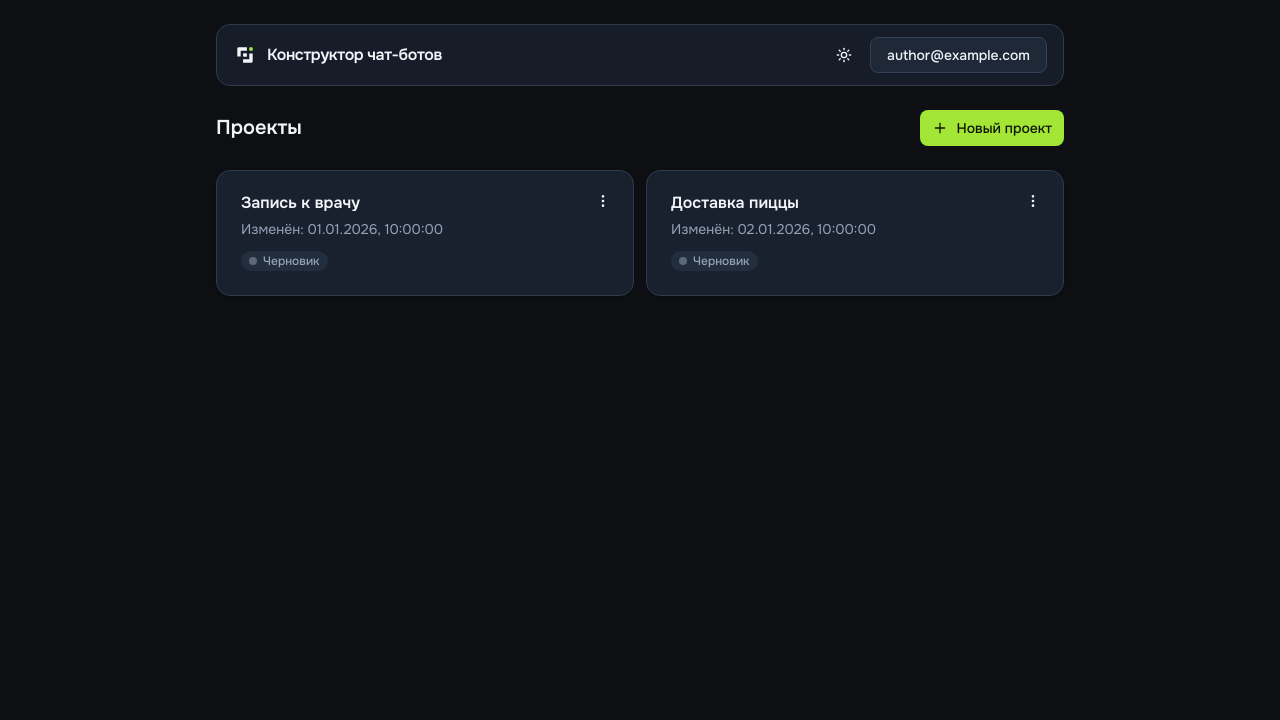
it: ProjectsPage › отрисовывает карточки проектов и позволяет переименовать проект через PATCH
Expected: the text "Запись к врачу" is shown, [241,192,360,213]
Expected: the text "Доставка пиццы" is shown, [671,192,799,213]
# Открываем меню действий карточки — навигации в редактор не происходит
Click the button named "Действия с проектом «Запись к врачу»" at (603, 201), box [585,183,621,219]
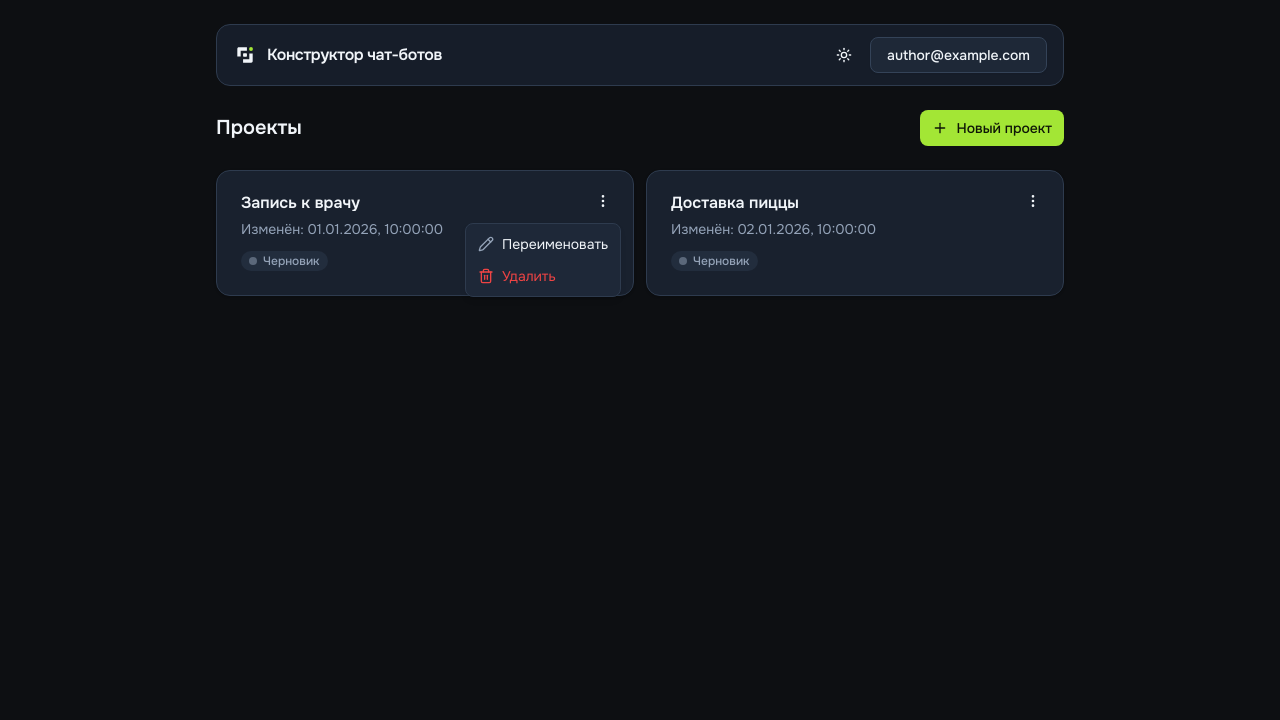
Click the menu item "Переименовать" at (543, 244), box [478,235,608,253]
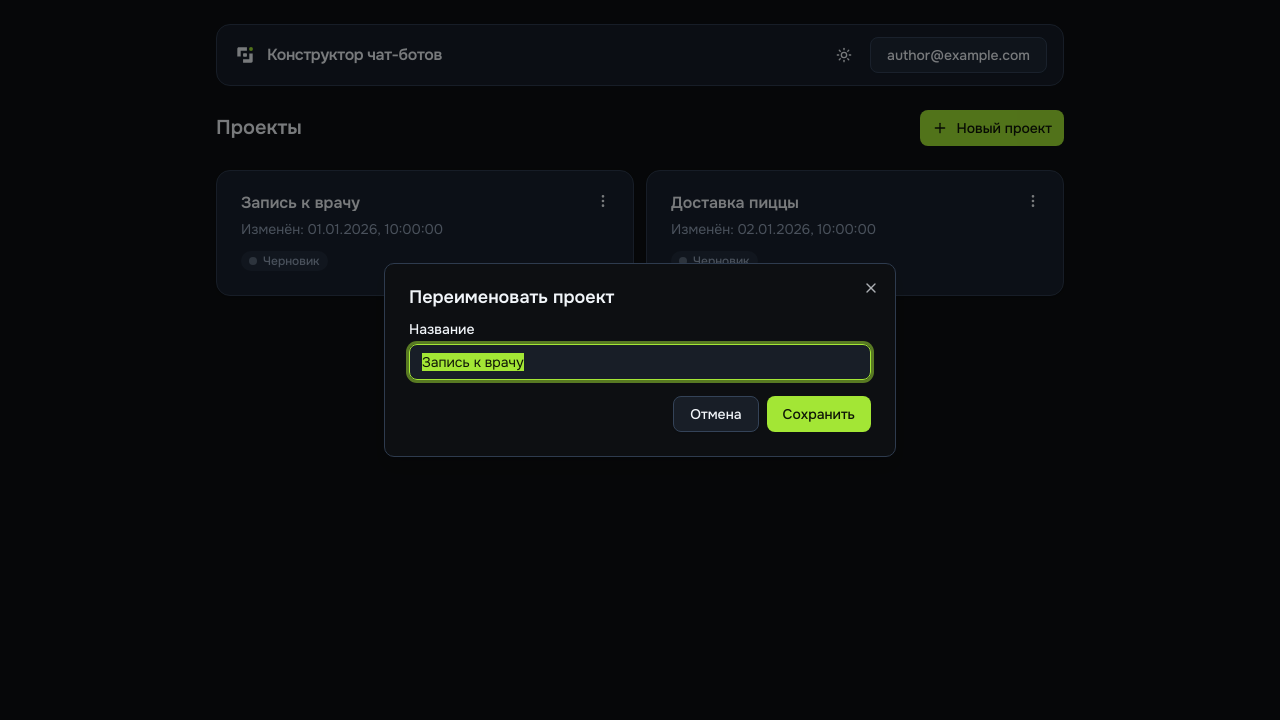
Result: the field labelled "Название" holds "Запись к врачу"
# Проверка валидации пустого имени
Clear the field labelled "Название" at (640, 362), box [409,344,871,380]
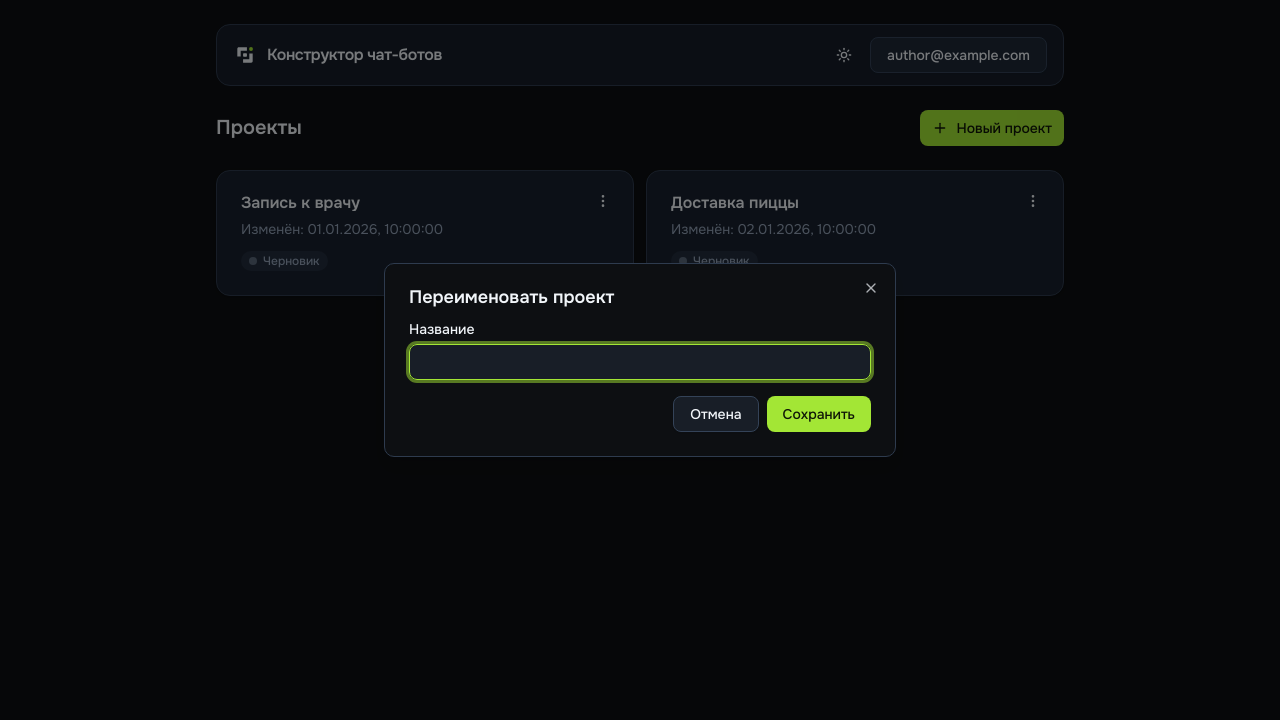
Click the button "Сохранить" at (819, 414), box [766,396,871,432]
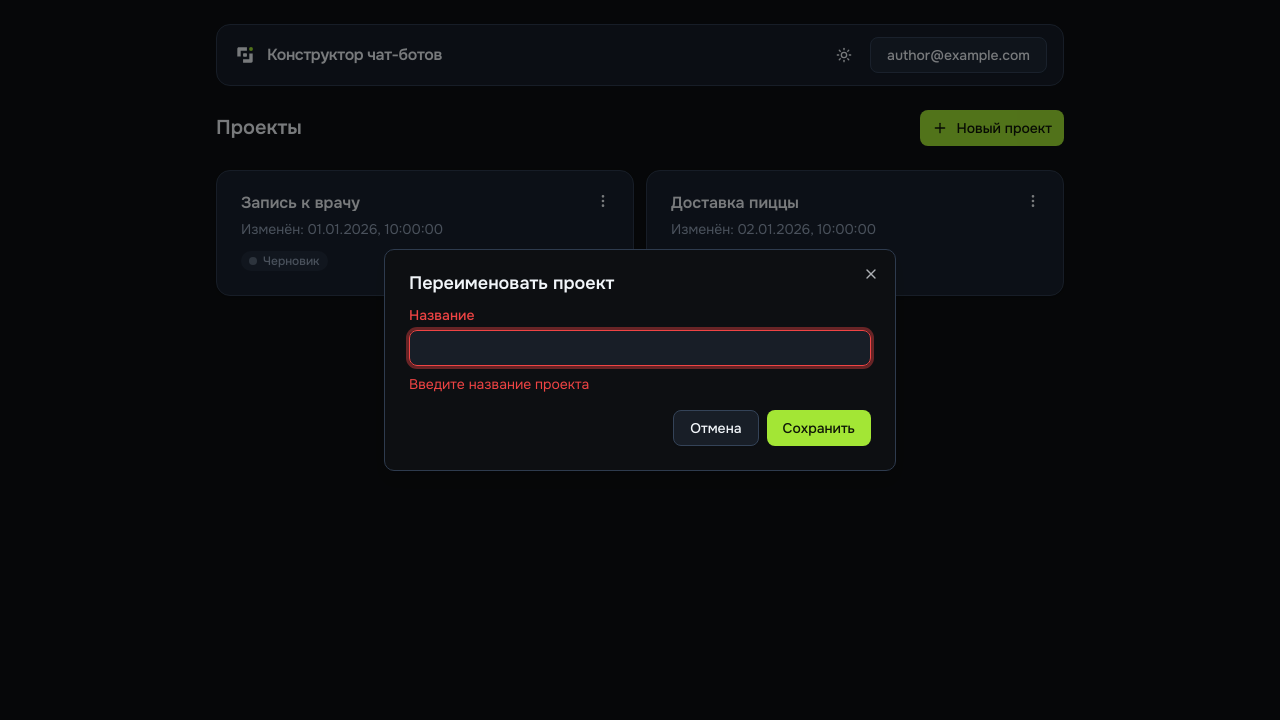
Result: the text "Введите название проекта" is shown at [409,375,589,393]
# Сохранение нового имени
Type "Клиника 24" into the field labelled "Название" at (640, 348), box [409,330,871,366]
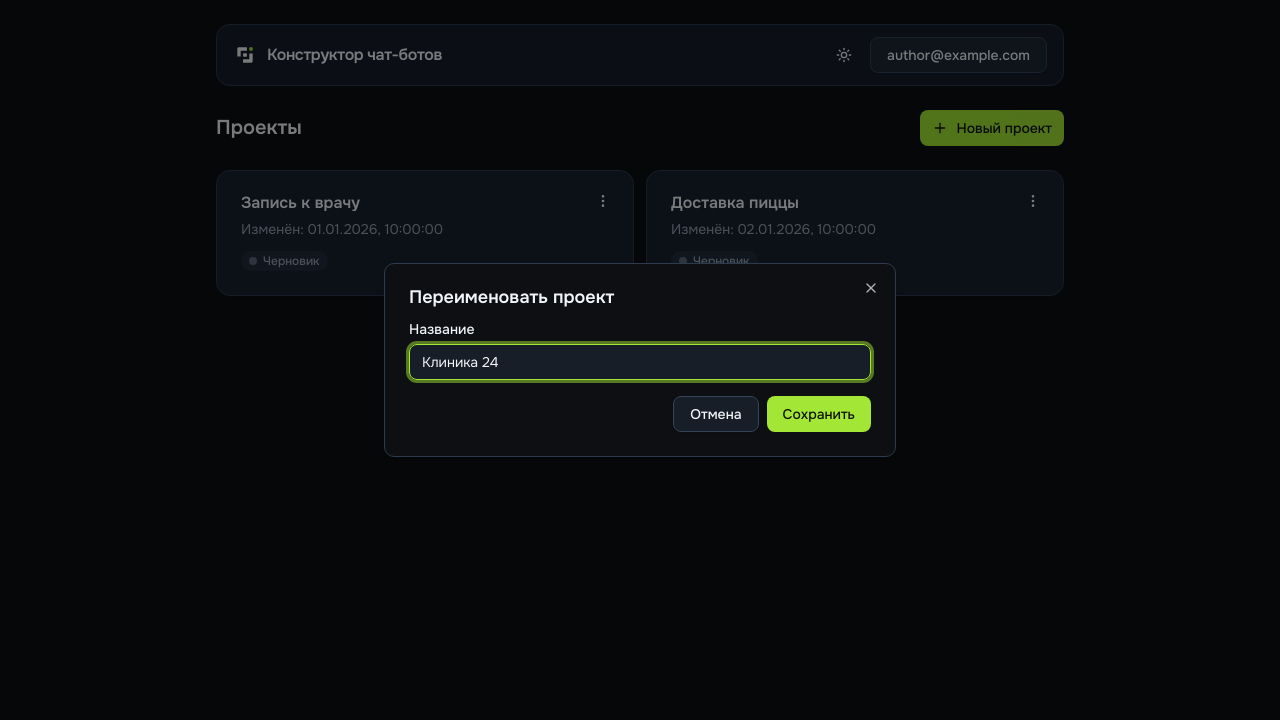
Click the button "Сохранить" at (819, 414), box [766,396,871,432]
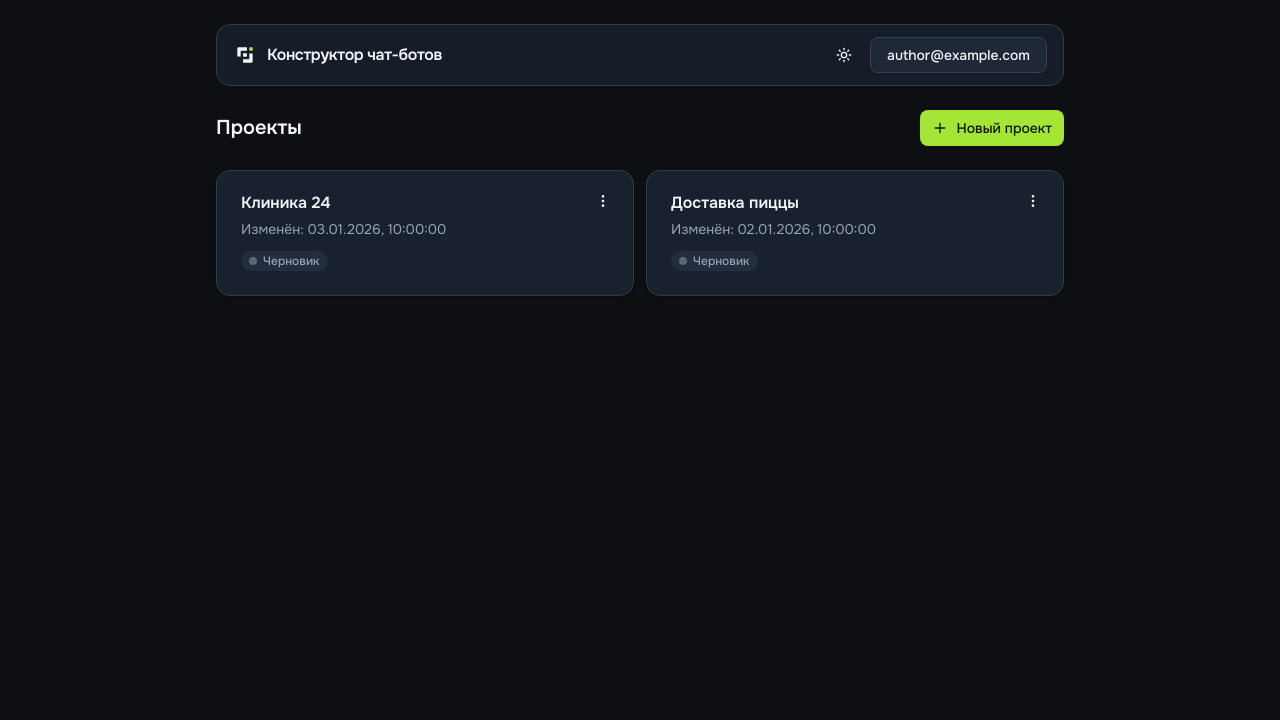
Result: the text "Клиника 24" is shown at [241,192,330,213]
